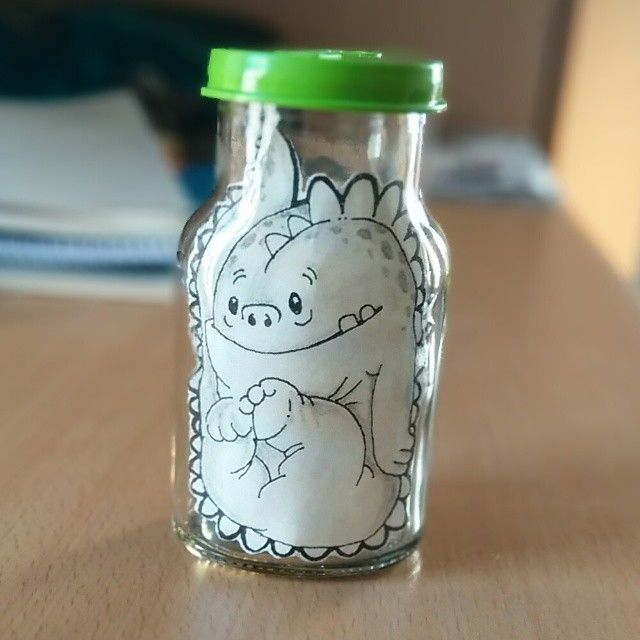bottle: (171, 29, 458, 584)
